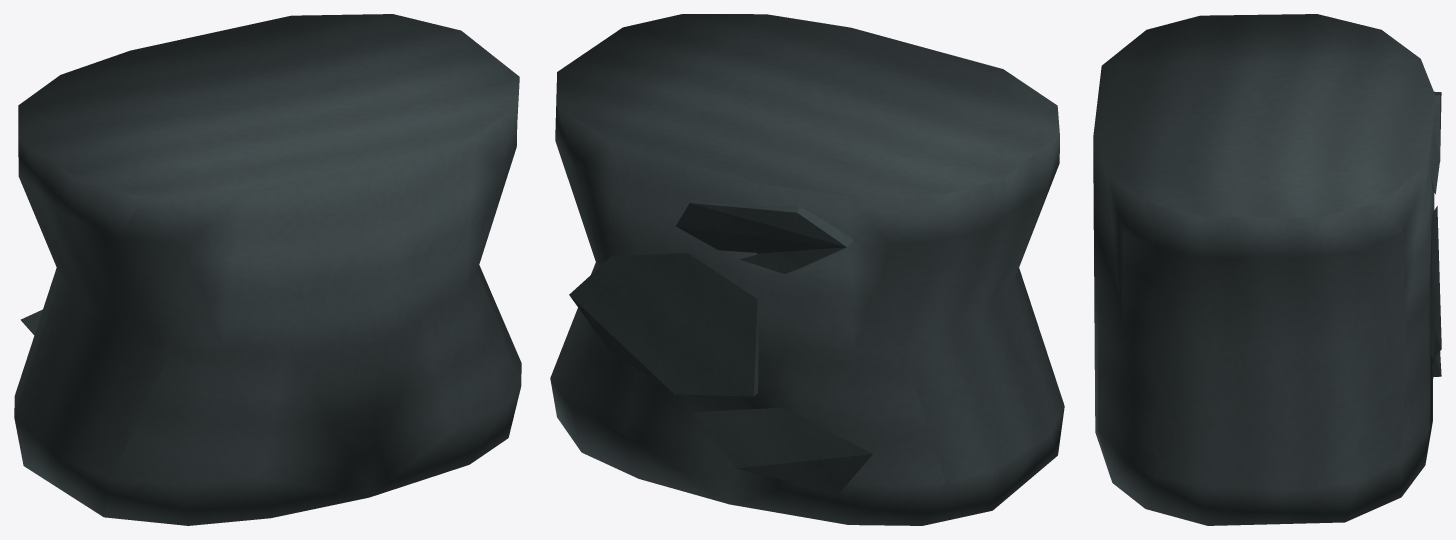
File: spine_lod1.glb
3 renders of one model, left to right at view 1: azimuth 30°, elevation 25°; view 2: azimuth 150°, elevation 25°; view 3: azimuth 270°, elevation 25°, orthographic. The views are drawn at different scales.
Parts seen in each view (by area): view 1: dormin_spine_LOD1; view 2: dormin_spine_LOD1; view 3: dormin_spine_LOD1.
Boxes of the visible parts, x1,y1,x2,y2 form: dormin_spine_LOD1: (14,14,521,525); dormin_spine_LOD1: (550,14,1064,525); dormin_spine_LOD1: (1093,14,1441,525).
Size of the model in its own units: 3.4 by 2.38 by 2.42.
Materials: 2 (2 with a texture image).
